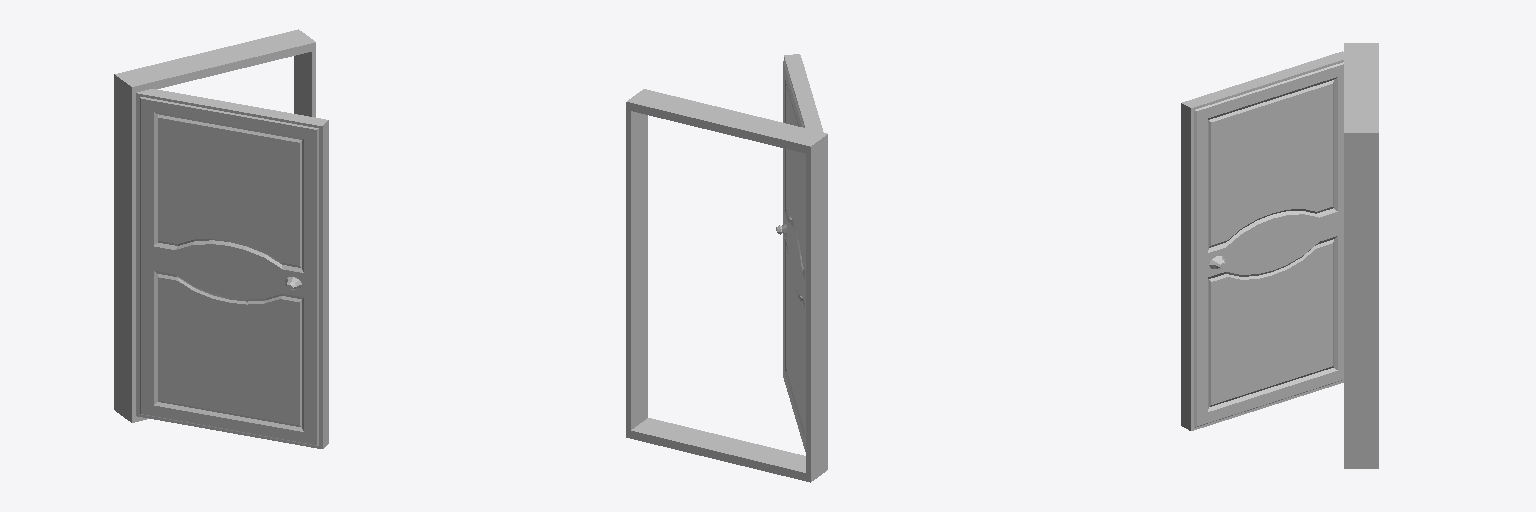
The model's file is drzwiok_000019.obj.
3 views of the same model, side by side, from view 1: azimuth 30°, elevation 25°; view 2: azimuth 150°, elevation 25°; view 3: azimuth 270°, elevation 25° (orthographic).
Parts seen in each view (by area): view 1: Door_4.001_Cube.001, Kostka; view 2: Kostka, Door_4.001_Cube.001; view 3: Door_4.001_Cube.001, Kostka.
Part boxes in pixels (left/top/right/bottom): Door_4.001_Cube.001: left=136, top=89, right=328, bottom=448; Kostka: left=114, top=29, right=315, bottom=422; Kostka: left=626, top=89, right=827, bottom=482; Door_4.001_Cube.001: left=776, top=54, right=823, bottom=451; Door_4.001_Cube.001: left=1181, top=51, right=1343, bottom=430; Kostka: left=1344, top=43, right=1378, bottom=468.
Bounding box in the file's own units: 0.7416 × 1.29 × 0.6878.